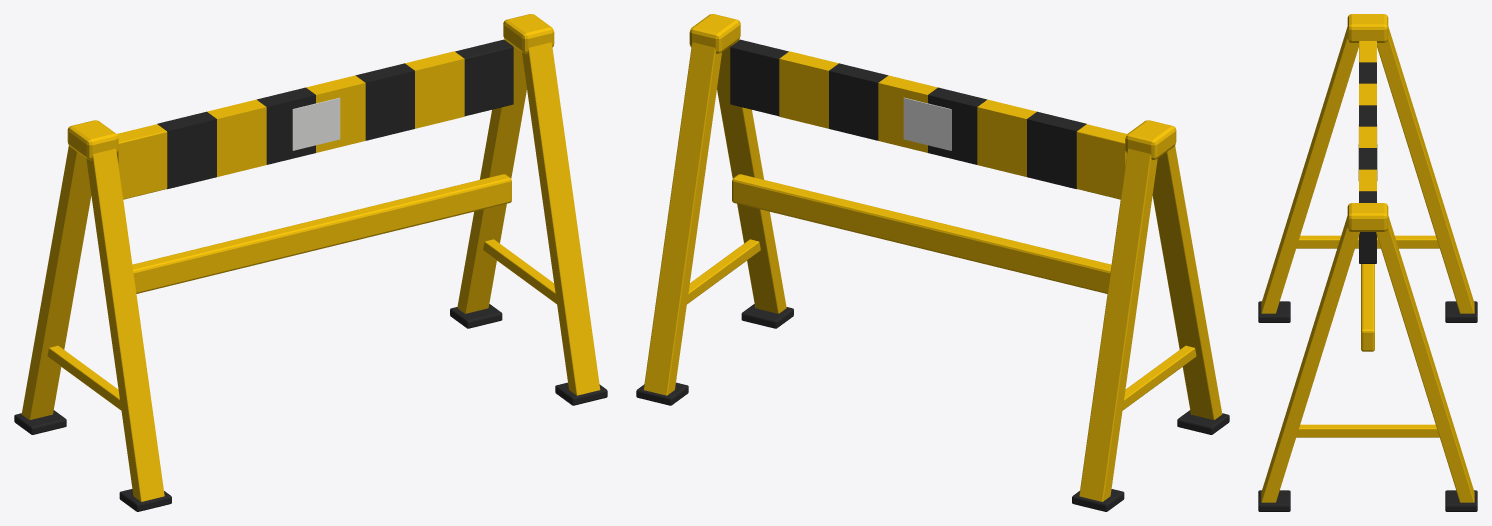
File: city-a-type-barricade.glb
3 renders of one model, left to right at view 1: azimuth 30°, elevation 25°; view 2: azimuth 150°, elevation 25°; view 3: azimuth 270°, elevation 25°, orthographic. The views are drawn at different scales.
Parts seen in each view (by area): view 1: Assembly | Yellow polyethylene, Assembly | Black stripe polyethylene, Assembly | White reflective strip; view 2: Assembly | Yellow polyethylene, Assembly | Black stripe polyethylene, Assembly | White reflective strip; view 3: Assembly | Yellow polyethylene, Assembly | Black stripe polyethylene.
Part boxes in pixels (x1,y1,x2,y2): Assembly | Yellow polyethylene: (21,14,600,501); Assembly | Black stripe polyethylene: (14,39,607,511); Assembly | White reflective strip: (292,97,340,150); Assembly | Yellow polyethylene: (643,14,1222,501); Assembly | Black stripe polyethylene: (636,39,1229,511); Assembly | White reflective strip: (903,97,951,150); Assembly | Yellow polyethylene: (1261,14,1474,502); Assembly | Black stripe polyethylene: (1258,62,1477,511).
Size of the model in its own units: 1.19 by 0.8092 by 0.54.
